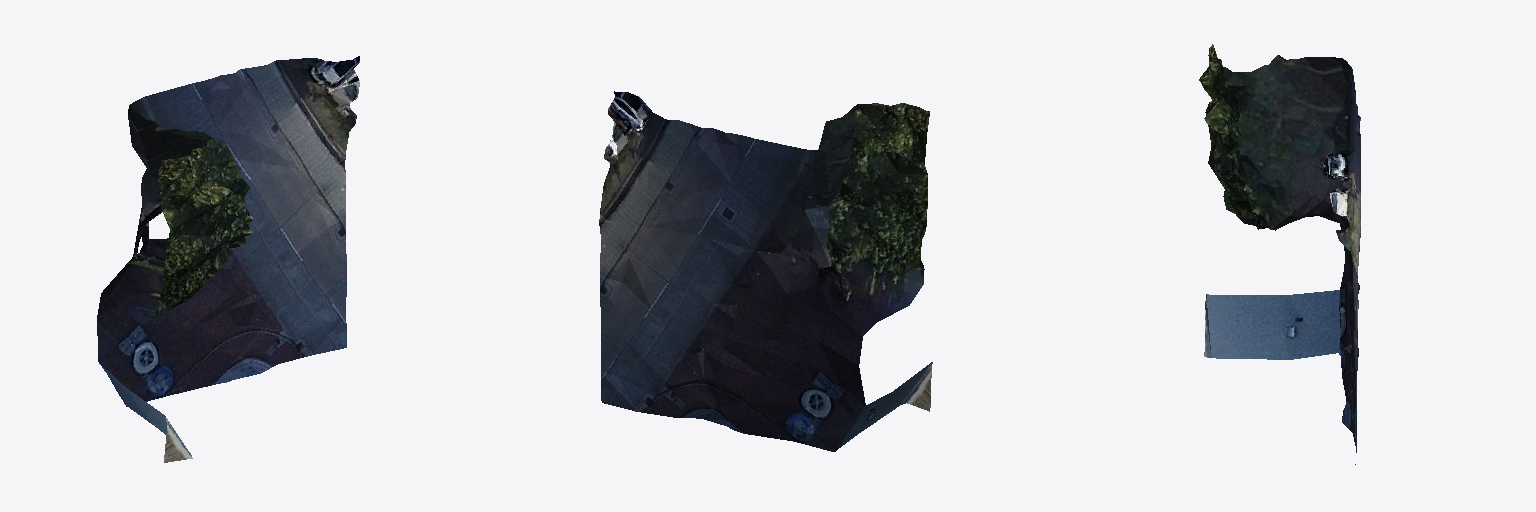
3 renders of one model, left to right at view 1: azimuth 30°, elevation 25°; view 2: azimuth 150°, elevation 25°; view 3: azimuth 270°, elevation 25°, orthographic.
Visible parts, largest first — view 1: obj_0; view 2: obj_0; view 3: obj_0.
Boxes of the visible parts, x1,y1,x2,y2 form: obj_0: [97, 56, 359, 462]; obj_0: [599, 91, 932, 451]; obj_0: [1199, 44, 1360, 464].
Size of the model in its own units: 20.1 by 22.54 by 10.95.
1 materials, 1 textured.